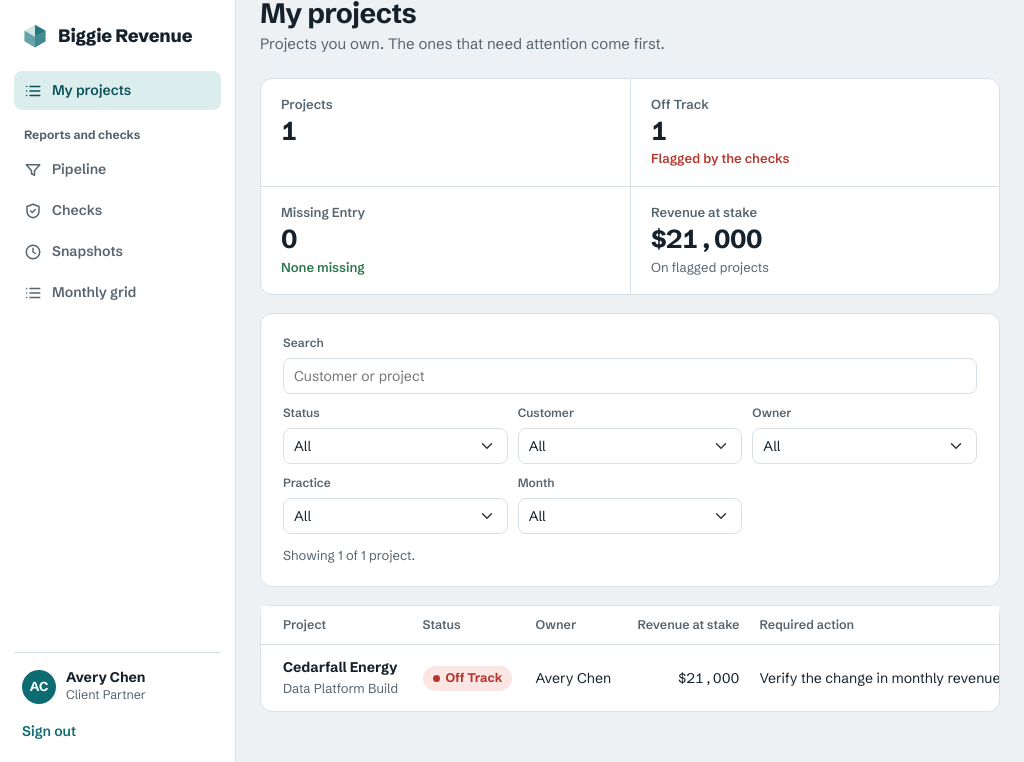
it: My projects (Client Partner) › opens the project from its row, with a way back
(page scrolled)
Step 1. Click the row named "Open Cedarfall Energy" → (340, 667), box [261,645,1023,711]
(page scrolled)
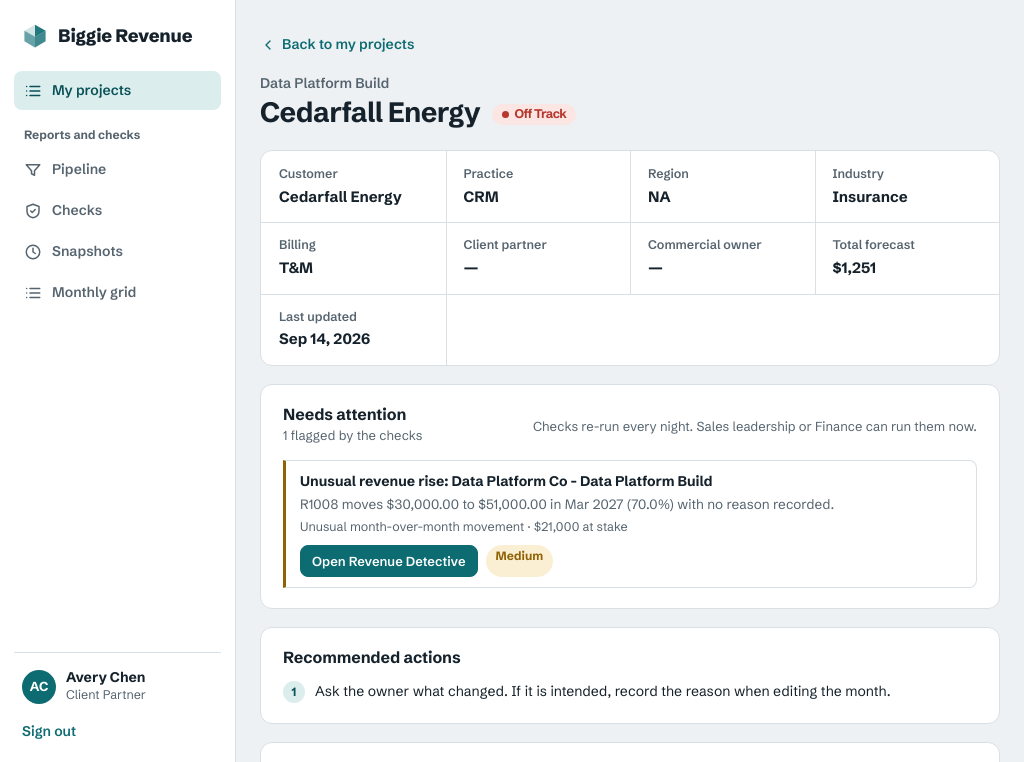
Check: the heading "Cedarfall Energy Off Track" is shown, box [260,96,576,128]
Check: the heading "Needs attention" is shown, box [283,405,422,424]
Step 2. Click the button "Back to my projects" → (337, 44), box [260,30,414,59]
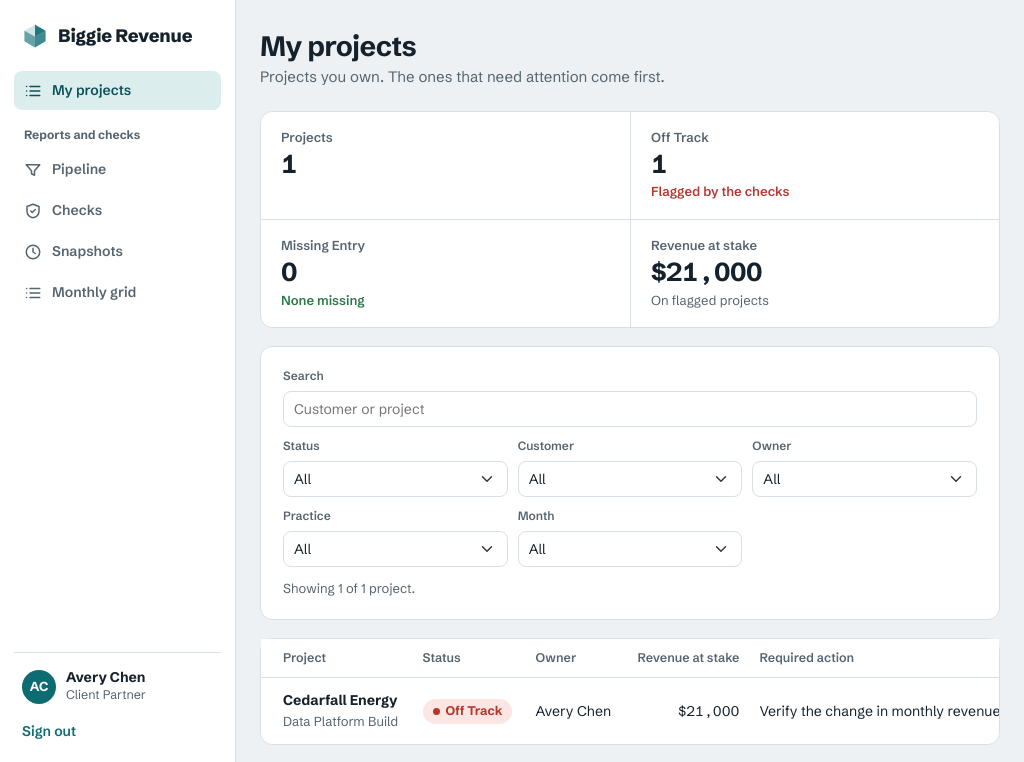
Check: the heading "My projects" is shown, box [260,29,416,63]
